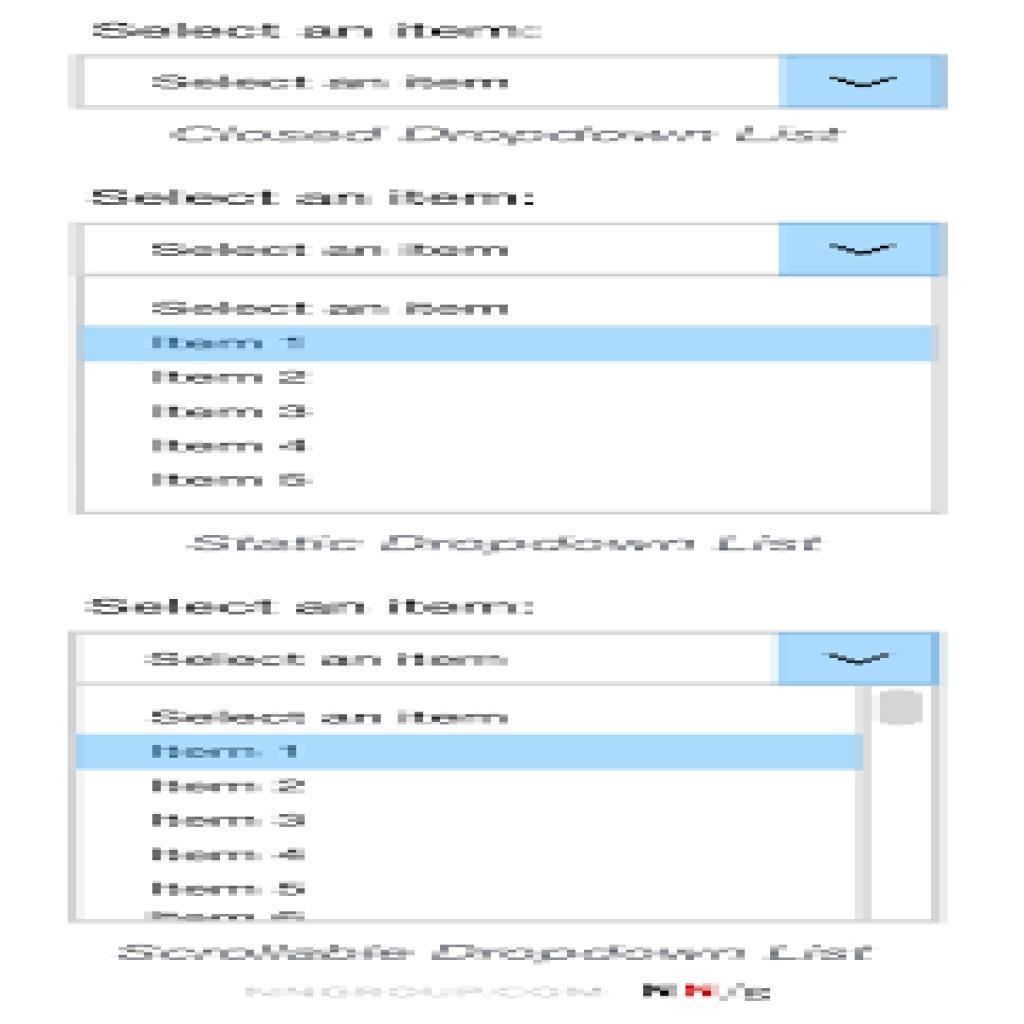dropdown: (74, 223, 949, 280), (69, 632, 938, 686), (69, 57, 951, 109)
